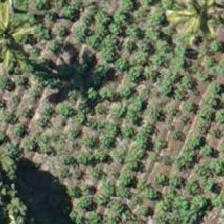coconut_tree: (156, 0, 223, 67), (0, 0, 48, 78)
